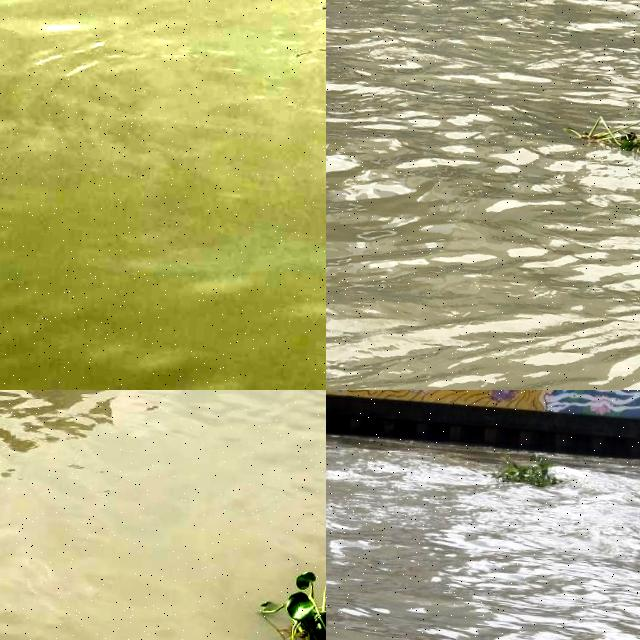water-hyacinth: (255, 569, 328, 640), (574, 108, 640, 172), (491, 453, 565, 500)
